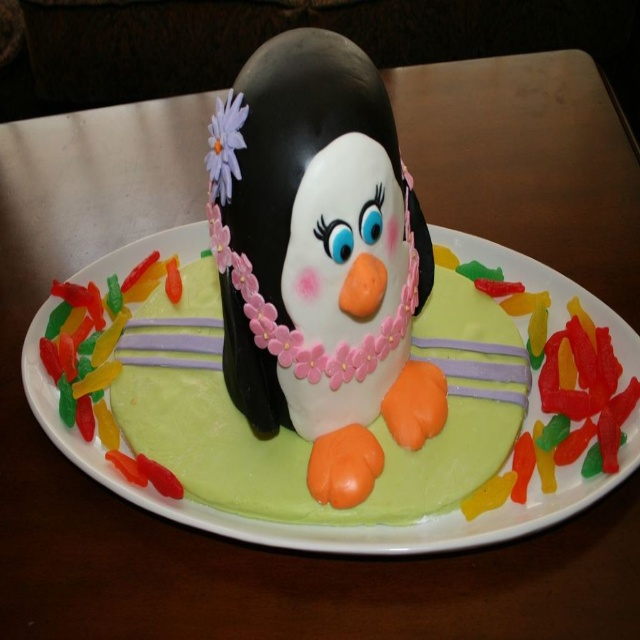Penguin: (202, 52, 429, 442)
